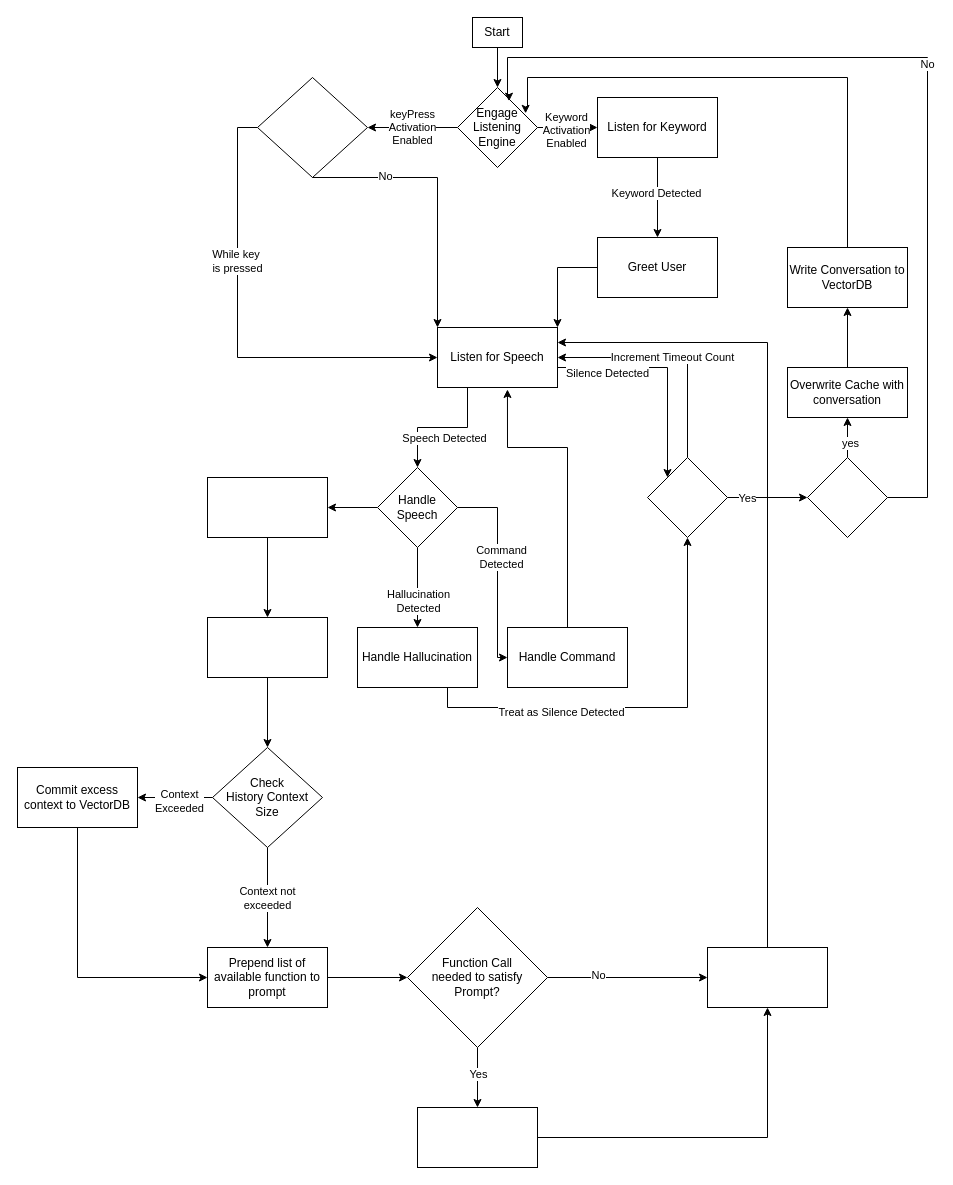
This 953x1185 diagram has some shape labels left out. The centre of each missing label's shape, as x and y in pixels:
"Add user input to conversation history" belongs at point 267,647.
"Check Conversation Timeout" belongs at point 687,497.
"Execute Function Call" belongs at point 477,1137.
"Is there a conversation history?" belongs at point 847,497.
"Press and hold of key Required?" belongs at point 312,127.
"Route speech to Configured API (Ollama, OpenAPI)" belongs at point 267,507.
"Send Response to TTS engine" belongs at point 767,977.
